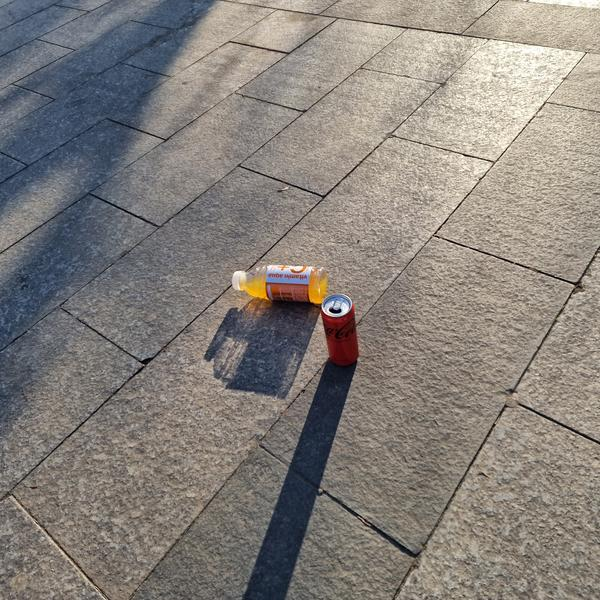can: (319, 291, 362, 369)
plastic_bottle: (230, 262, 330, 305)
